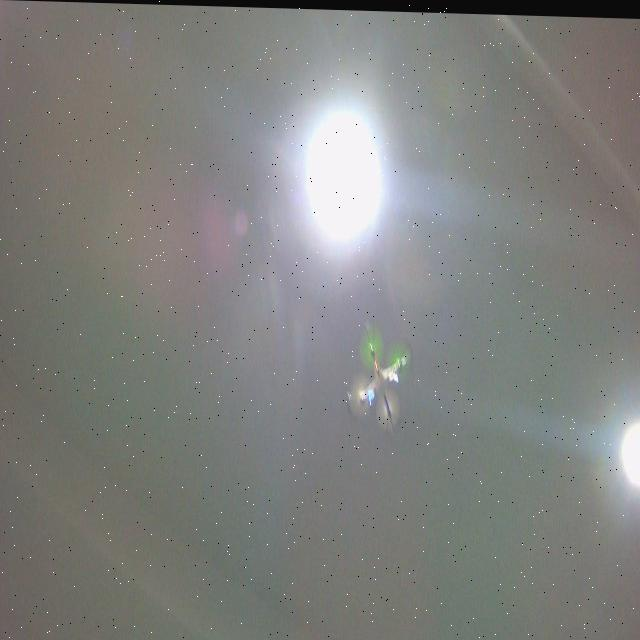drone: (344, 317, 416, 432)
